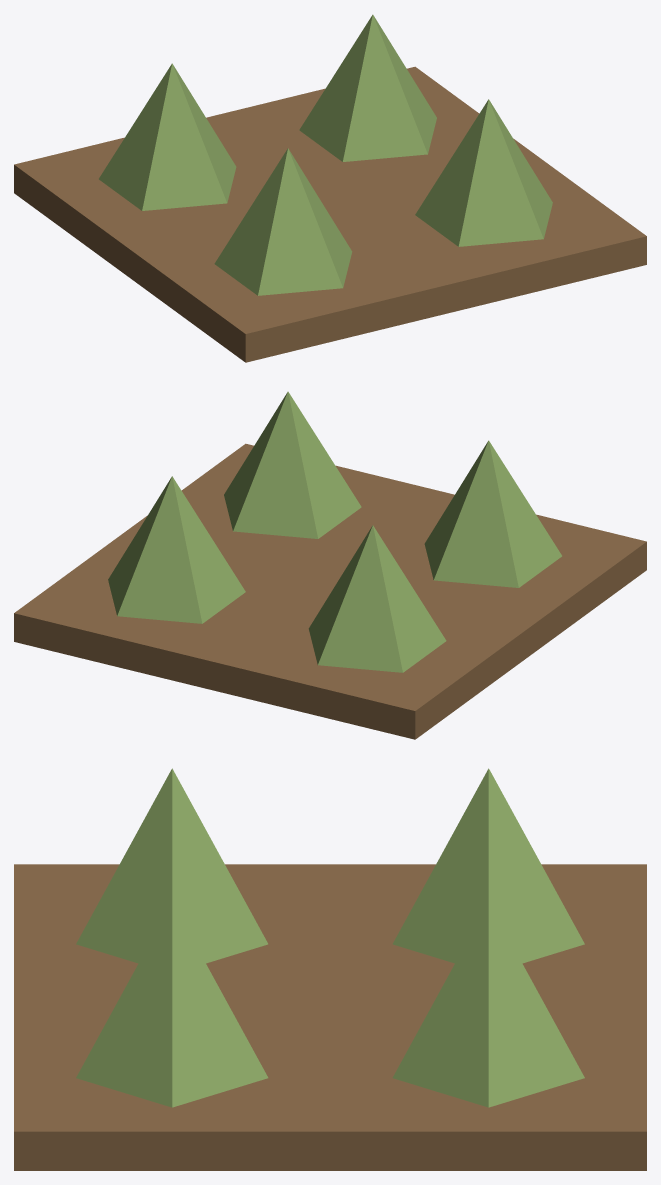
File: deco_flowerbed.glb
3 renders of one model, top to bottom at view 1: azimuth 30°, elevation 25°; view 2: azimuth 150°, elevation 25°; view 3: azimuth 270°, elevation 25°, orthographic. The views are drawn at different scales.
Bounding box in the file's own units: 1.76 × 0.62 × 1.76.
